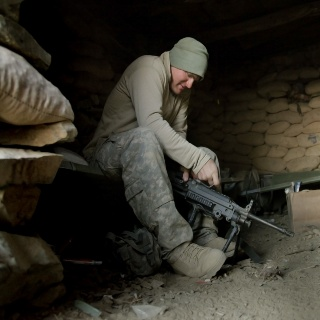rifle: (163, 169, 294, 253)
